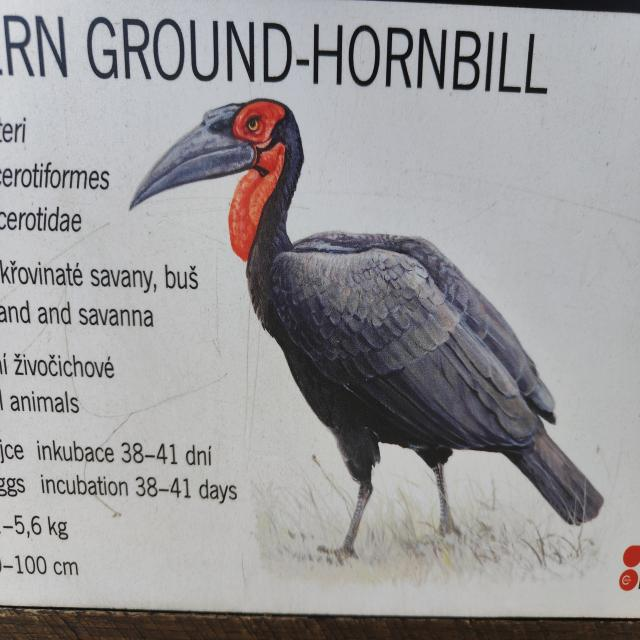bird: (130, 98, 603, 566)
